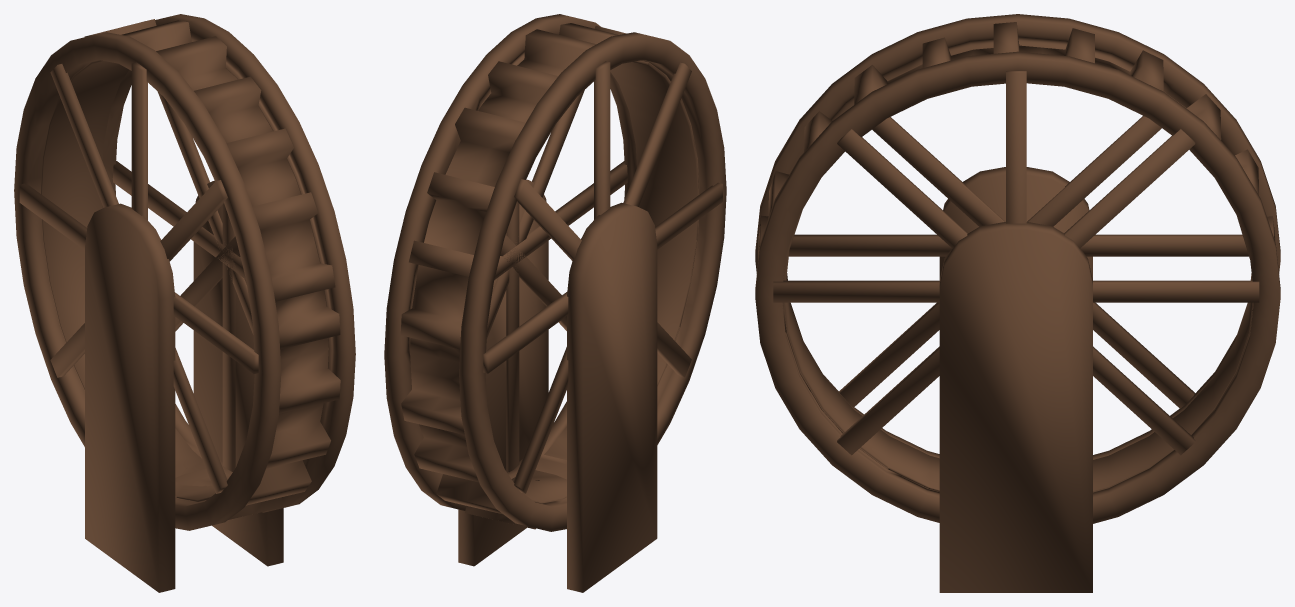
The model's file is RuedaAgua.fbx.
The picture shows the model from 3 angles, left to right: view 1: azimuth 30°, elevation 25°; view 2: azimuth 150°, elevation 25°; view 3: azimuth 270°, elevation 25°; orthographic projection. The views are drawn at different scales.
Visible parts, largest first — view 1: Cylinder; view 2: Cylinder; view 3: Cylinder.
Part boxes in pixels (x1,y1,x2,y2): Cylinder: (14, 14, 355, 592); Cylinder: (384, 14, 726, 592); Cylinder: (755, 14, 1280, 592).
Size of the model in its own units: 194 by 756 by 685.
